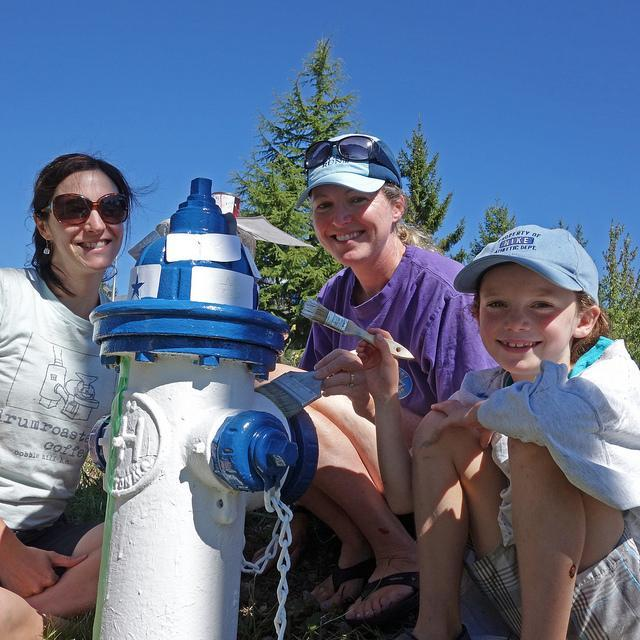fire_hydrant: (84, 175, 298, 631)
